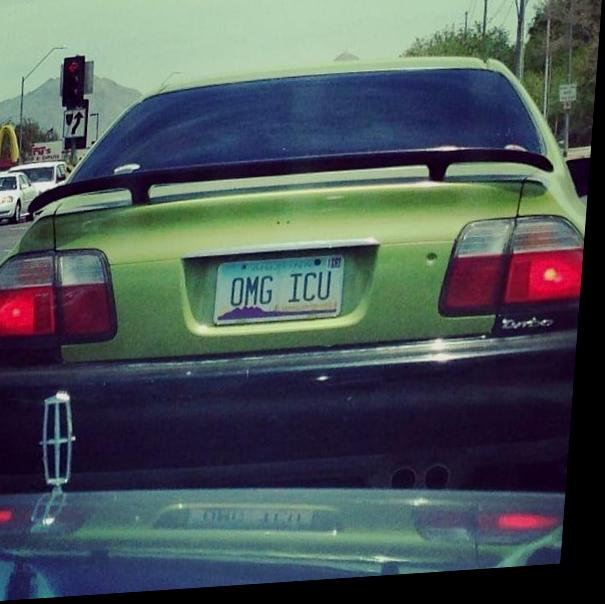License_Plate: (208, 248, 351, 335)
